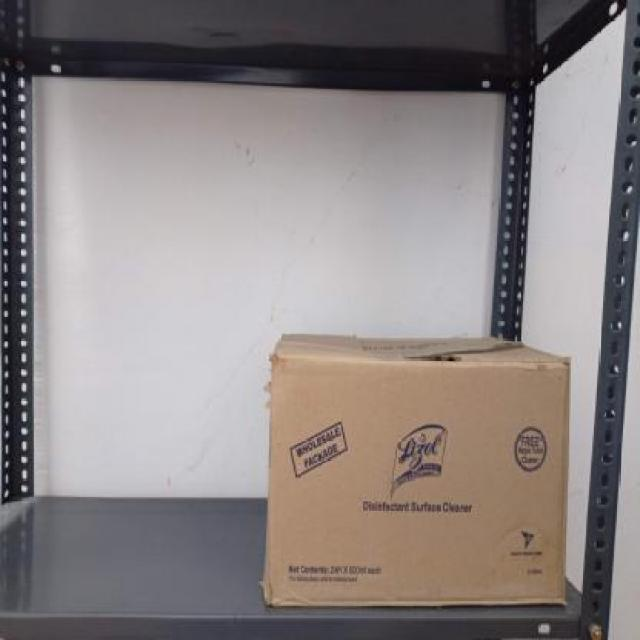box: (262, 360, 570, 603)
